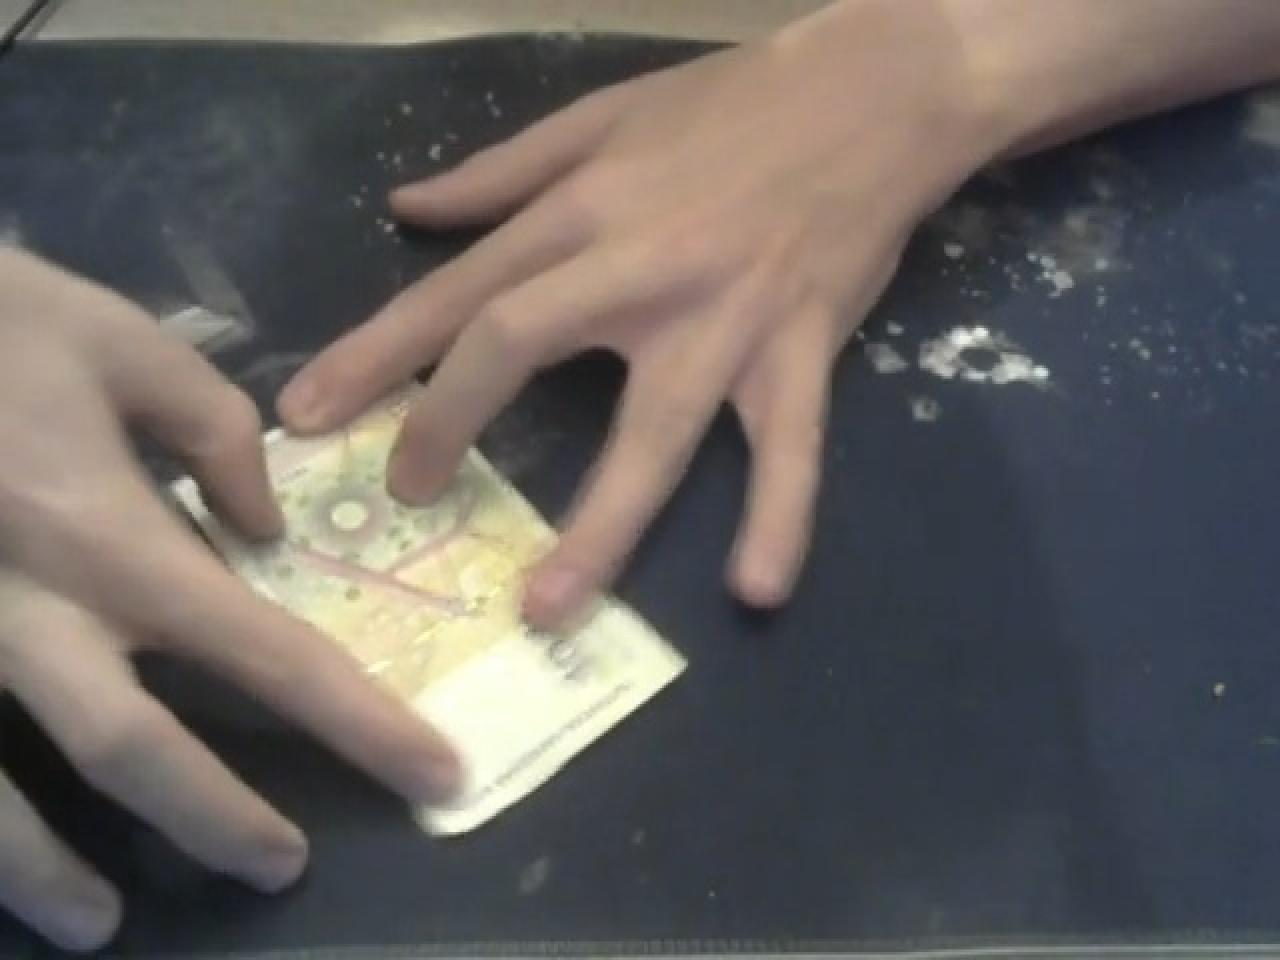10leva: (176, 400, 684, 835)
